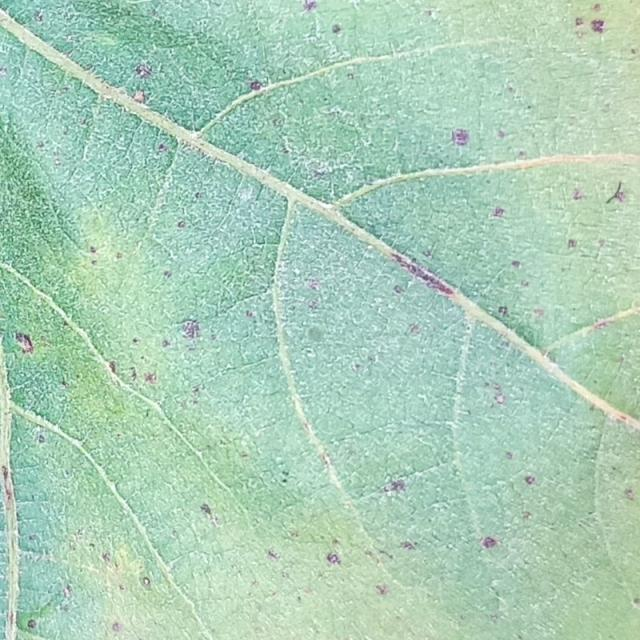Bacterial_Blight: (196, 289, 307, 372), (4, 334, 92, 436), (94, 543, 162, 633), (259, 539, 351, 603), (360, 457, 465, 513), (491, 457, 566, 534), (477, 252, 552, 322), (30, 123, 93, 174), (116, 54, 165, 113), (393, 253, 454, 295), (563, 180, 629, 212), (562, 231, 624, 261), (439, 114, 478, 161), (109, 356, 162, 388), (349, 344, 398, 377), (173, 318, 213, 353), (83, 240, 132, 268), (20, 597, 58, 633), (573, 4, 609, 38), (298, 0, 329, 39), (321, 104, 360, 123), (2, 466, 16, 511), (363, 547, 393, 567), (486, 381, 507, 407), (199, 502, 220, 527), (15, 332, 35, 355), (383, 478, 408, 495), (185, 385, 203, 406), (134, 62, 153, 79), (608, 412, 629, 427), (301, 0, 319, 14), (281, 136, 294, 155), (359, 133, 375, 148), (238, 188, 255, 202), (247, 78, 265, 91), (546, 359, 562, 373), (481, 536, 499, 548), (306, 278, 321, 291), (326, 552, 341, 565), (424, 8, 440, 20), (347, 0, 363, 11), (594, 319, 610, 330), (573, 188, 586, 201), (624, 488, 636, 501), (492, 207, 506, 218), (401, 541, 416, 551), (267, 549, 280, 560), (391, 252, 404, 263), (33, 10, 44, 22), (62, 586, 72, 599), (280, 469, 290, 482), (313, 169, 327, 178), (409, 323, 420, 334), (308, 300, 320, 310), (157, 143, 169, 153), (108, 361, 117, 374), (351, 362, 362, 372), (498, 306, 509, 316), (112, 622, 122, 633), (27, 620, 37, 631), (525, 475, 535, 485), (141, 577, 151, 587), (102, 552, 111, 563), (393, 285, 404, 294), (272, 118, 282, 127), (423, 249, 433, 258), (568, 239, 577, 249), (37, 433, 46, 443), (592, 3, 602, 12), (246, 310, 255, 319), (490, 614, 499, 623), (511, 260, 520, 269), (163, 270, 172, 279), (505, 451, 514, 460), (162, 339, 171, 348), (575, 18, 584, 27), (0, 68, 8, 78), (517, 151, 527, 159), (498, 130, 506, 139), (89, 246, 98, 254), (177, 220, 186, 228), (520, 280, 530, 287), (507, 86, 515, 94), (347, 73, 355, 80), (618, 356, 625, 364), (37, 141, 45, 148), (629, 48, 637, 55), (195, 192, 202, 199), (91, 260, 98, 266), (636, 598, 640, 606)
Cotton: (0, 0, 639, 639)
